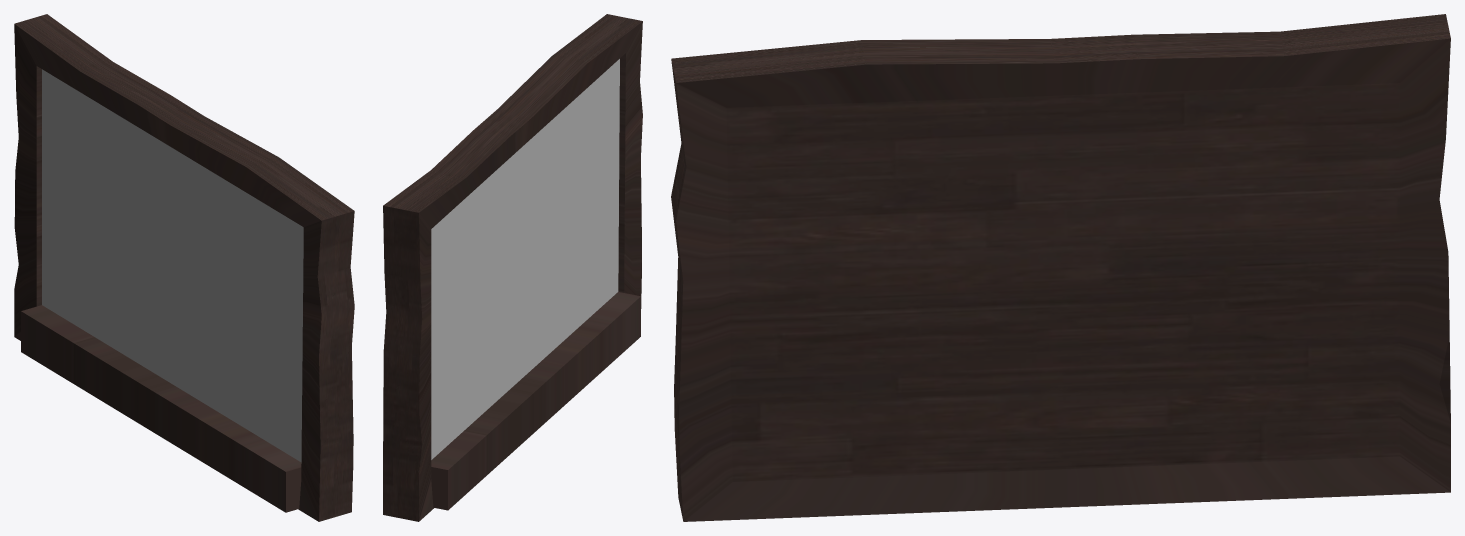
Rendered from tablerocolor.fbx.
3 renders of one model, left to right at view 1: azimuth 30°, elevation 25°; view 2: azimuth 150°, elevation 25°; view 3: azimuth 270°, elevation 25°, orthographic. The views are drawn at different scales.
Parts seen in each view (by area): view 1: pCube3; view 2: pCube3; view 3: pCube3.
Part boxes in pixels (x1,y1,x2,y2): pCube3: (14,14,354,521); pCube3: (383,14,642,521); pCube3: (671,14,1450,521).
Bounding box in the file's own units: 1.32 × 4.59 × 7.12.
